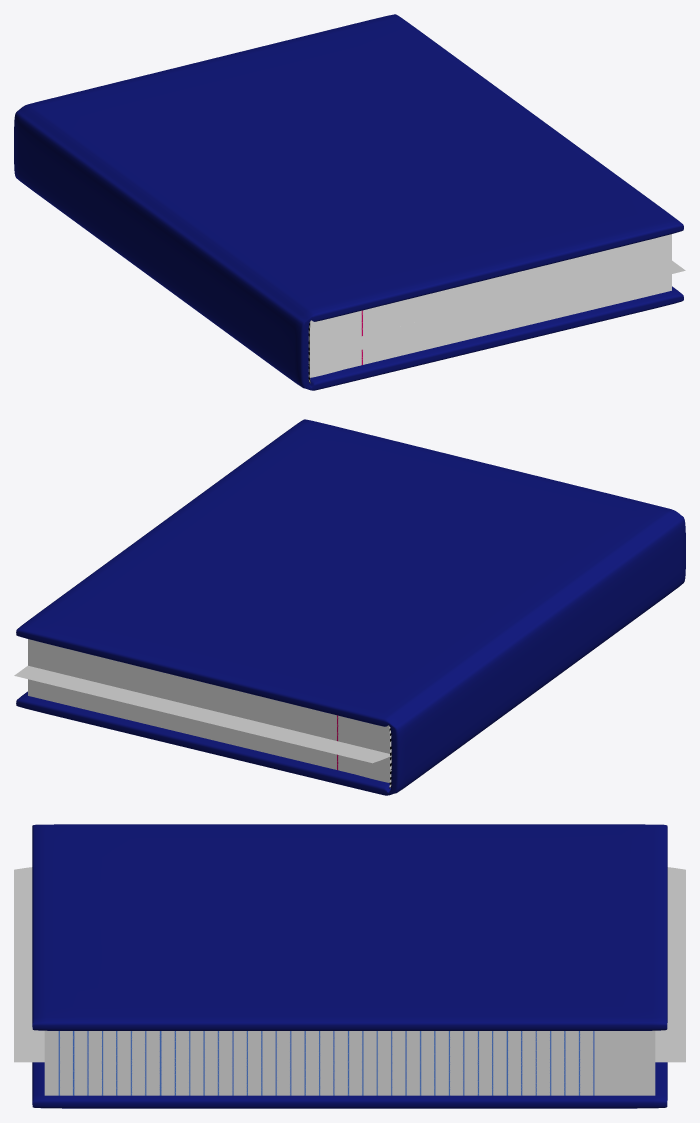
The model's file is book001.fbx.
The picture shows the model from 3 angles, top to bottom: view 1: azimuth 30°, elevation 25°; view 2: azimuth 150°, elevation 25°; view 3: azimuth 270°, elevation 25°; orthographic projection. The views are drawn at different scales.
Parts seen in each view (by area): view 1: Cover_Cube, pages_R_Plane_003, pages_L_Plane, pages_wrap_L_Plane_011, pages_wrap_R_Plane_012; view 2: Cover_Cube, pages_R_Plane_003, pages_L_Plane, pages_wrap_L_Plane_011, pages_wrap_R_Plane_012; view 3: Cover_Cube, pages_L_Plane, pages_R_Plane_003, pages_wrap_L_Plane_011, pages_wrap_R_Plane_012.
Part boxes in pixels (left/top/right/bottom): Cover_Cube: left=14, top=14, right=683, bottom=390; pages_R_Plane_003: left=310, top=234, right=671, bottom=348; pages_L_Plane: left=310, top=274, right=671, bottom=377; pages_wrap_L_Plane_011: left=345, top=260, right=685, bottom=350; pages_wrap_R_Plane_012: left=310, top=260, right=671, bottom=357; Cover_Cube: left=16, top=419, right=685, bottom=795; pages_R_Plane_003: left=28, top=639, right=389, bottom=753; pages_L_Plane: left=28, top=679, right=389, bottom=782; pages_wrap_L_Plane_011: left=14, top=665, right=389, bottom=756; pages_wrap_R_Plane_012: left=23, top=673, right=389, bottom=763; Cover_Cube: left=32, top=824, right=667, bottom=1108; pages_L_Plane: left=44, top=1062, right=655, bottom=1095; pages_R_Plane_003: left=44, top=1030, right=655, bottom=1062; pages_wrap_L_Plane_011: left=14, top=886, right=685, bottom=1062; pages_wrap_R_Plane_012: left=14, top=867, right=685, bottom=1062.
Bounding box in the file's own units: 1.6 × 0.3187 × 2.2.
11 materials, 9 textured.
